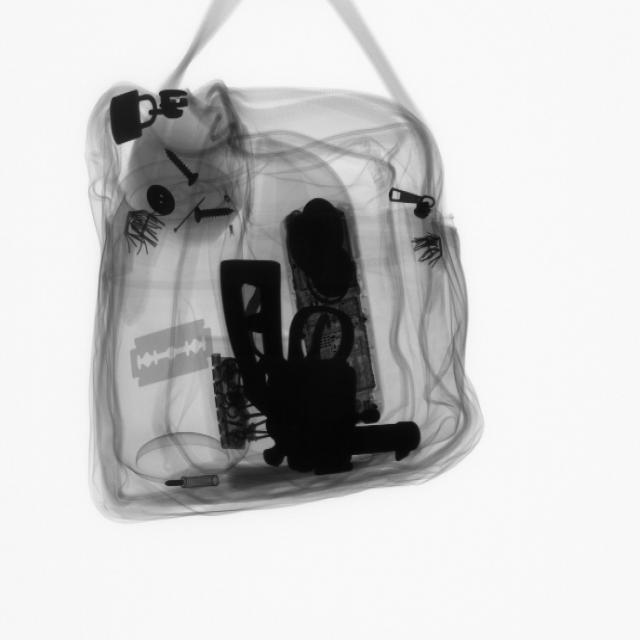BLADE: (125, 311, 220, 393)
GUN: (224, 256, 421, 476)
SCREW: (164, 143, 206, 193), (189, 197, 244, 231)
